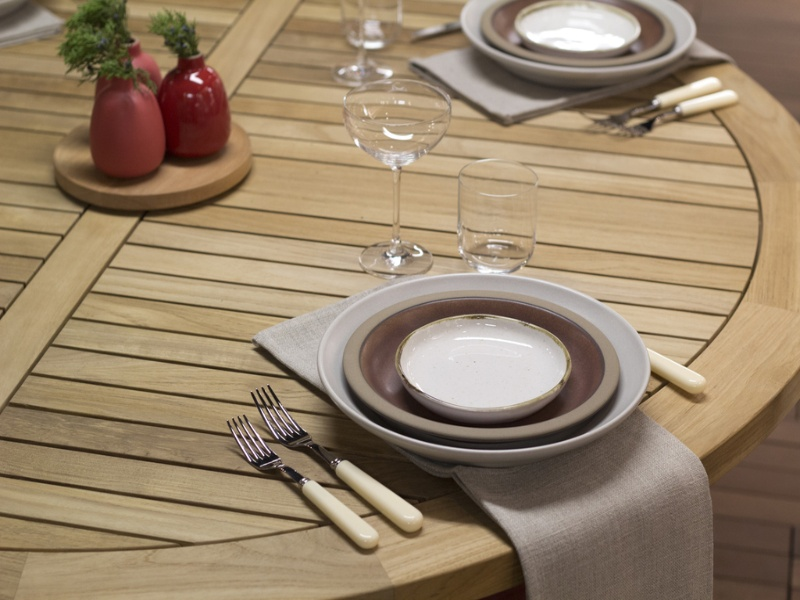dining table: (3, 2, 798, 600)
